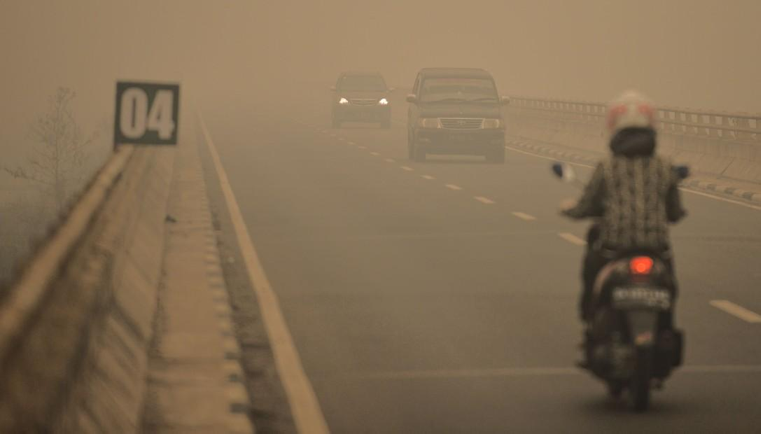backpack: (567, 85, 689, 393), (582, 235, 683, 406), (578, 221, 613, 319), (665, 171, 688, 224)
baseball bat: (0, 103, 363, 425)
bottle: (551, 161, 565, 179)
bus: (552, 84, 701, 398), (391, 67, 504, 164)
car: (0, 71, 713, 425), (564, 82, 690, 401), (580, 238, 686, 410), (329, 71, 498, 169), (566, 113, 688, 247), (403, 67, 509, 162), (371, 66, 485, 143), (329, 72, 399, 130), (560, 161, 606, 222), (665, 163, 689, 223)
cell phone: (582, 235, 683, 406)
chair: (331, 72, 397, 130)
dog: (563, 84, 689, 402)
fire hydrant: (563, 84, 689, 402), (590, 91, 690, 274), (582, 235, 683, 406), (665, 171, 688, 224)
handbag: (665, 171, 688, 224)
horse: (561, 84, 691, 403)
kite: (541, 79, 697, 411)
motorcycle: (576, 114, 691, 400), (532, 187, 667, 402), (580, 240, 685, 412)
parking meter: (563, 84, 689, 402), (592, 92, 690, 287), (582, 235, 683, 406), (665, 162, 690, 225)
person: (0, 71, 668, 428), (559, 84, 690, 404), (528, 95, 642, 349), (592, 92, 690, 287), (579, 241, 685, 411), (559, 202, 641, 384), (391, 67, 504, 164), (330, 71, 392, 132), (574, 218, 606, 318), (665, 171, 688, 224)
potted plant: (566, 92, 686, 273)
suitcase: (563, 84, 689, 402), (580, 238, 686, 410)
teddy bear: (563, 84, 689, 402)
traffic light: (563, 84, 689, 402), (570, 93, 691, 253), (582, 235, 683, 406), (605, 90, 683, 212), (605, 89, 659, 163), (663, 159, 689, 225)
truck: (543, 90, 694, 417), (580, 238, 686, 410), (402, 68, 506, 162), (331, 72, 397, 130)
umbrella: (0, 71, 668, 428), (0, 95, 336, 428)
